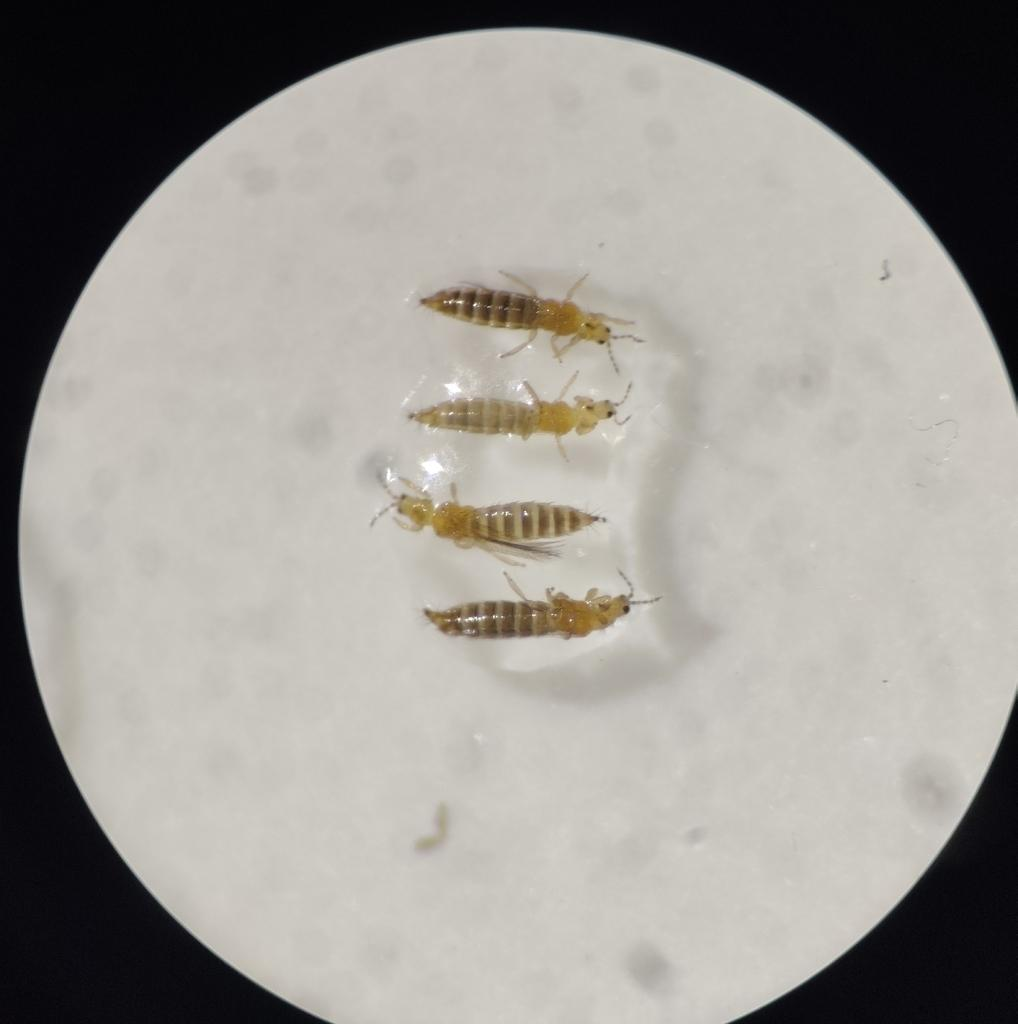tiny_pests: (386, 226, 679, 390), (363, 357, 686, 473), (367, 567, 680, 677), (349, 457, 641, 574)
